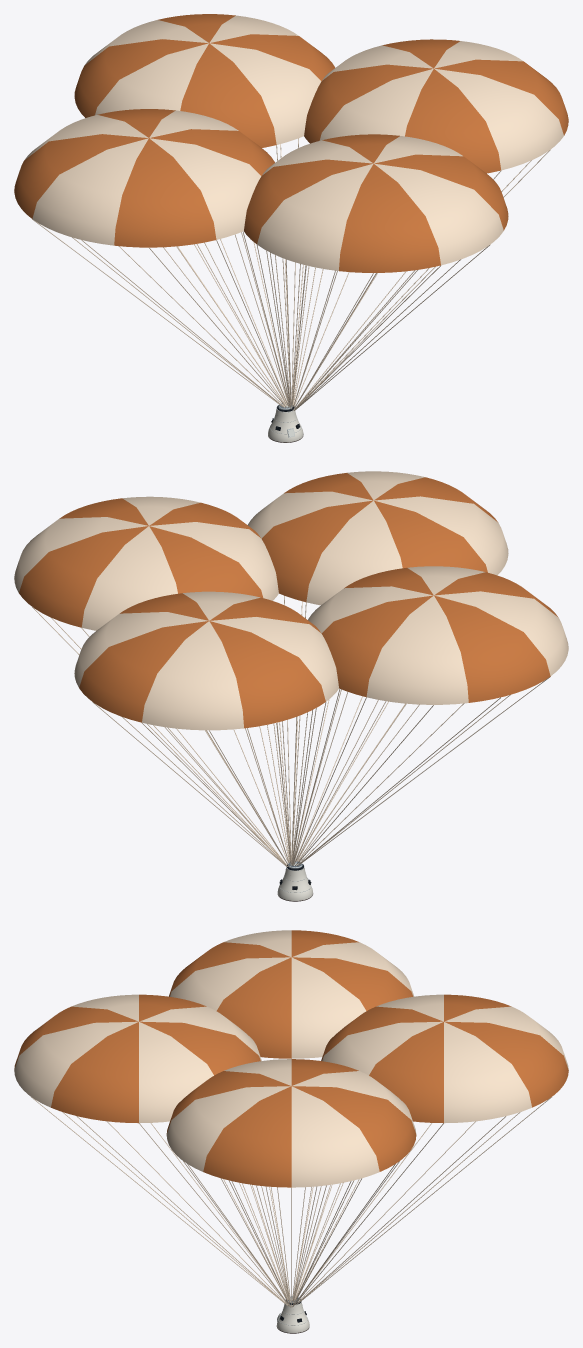
File: dragon_capsule_recovery.glb
3 views of the same model, one above another, from view 1: azimuth 30°, elevation 25°; view 2: azimuth 150°, elevation 25°; view 3: azimuth 270°, elevation 25° (orthographic). The views are drawn at different scales.
Parts seen in each view (by area): view 1: dragon_capsule.dragon_recovery.main_01.mesh_Parachute_canopy, dragon_capsule.dragon_recovery.main_01.mesh_Spray-on_insulat, dragon_capsule.dragon_recovery.main_04.mesh_Spray-on_insulat, dragon_capsule.dragon_recovery.main_04.mesh_Parachute_canopy, dragon_capsule.dragon_recovery.main_02.mesh_Parachute_canopy, dragon_capsule.dragon_recovery.main_02.mesh_Spray-on_insulat, dragon_capsule.dragon_recovery.main_03.mesh_Spray-on_insulat, dragon_capsule.dragon_recovery.main_03.mesh_Parachute_canopy, dragon_capsule.dragon_recovery.mesh_Parachute_canopy_fabric, dragon_capsule.mesh_Warm_white_enamel; view 2: dragon_capsule.dragon_recovery.main_03.mesh_Spray-on_insulat, dragon_capsule.dragon_recovery.main_03.mesh_Parachute_canopy, dragon_capsule.dragon_recovery.main_04.mesh_Parachute_canopy, dragon_capsule.dragon_recovery.main_04.mesh_Spray-on_insulat, dragon_capsule.dragon_recovery.main_02.mesh_Spray-on_insulat, dragon_capsule.dragon_recovery.main_02.mesh_Parachute_canopy, dragon_capsule.dragon_recovery.main_01.mesh_Parachute_canopy, dragon_capsule.dragon_recovery.main_01.mesh_Spray-on_insulat, dragon_capsule.dragon_recovery.mesh_Parachute_canopy_fabric, dragon_capsule.mesh_Warm_white_enamel; view 3: dragon_capsule.dragon_recovery.main_02.mesh_Parachute_canopy, dragon_capsule.dragon_recovery.main_02.mesh_Spray-on_insulat, dragon_capsule.dragon_recovery.main_03.mesh_Parachute_canopy, dragon_capsule.dragon_recovery.main_01.mesh_Spray-on_insulat, dragon_capsule.dragon_recovery.main_01.mesh_Parachute_canopy, dragon_capsule.dragon_recovery.main_03.mesh_Spray-on_insulat, dragon_capsule.dragon_recovery.main_04.mesh_Parachute_canopy, dragon_capsule.dragon_recovery.main_04.mesh_Spray-on_insulat, dragon_capsule.dragon_recovery.mesh_Parachute_canopy_fabric, dragon_capsule.mesh_Warm_white_enamel.
Boxes of the visible parts, left/top/right/bottom form: dragon_capsule.dragon_recovery.main_01.mesh_Parachute_canopy: left=257, top=136, right=503, bottom=270; dragon_capsule.dragon_recovery.main_01.mesh_Spray-on_insulat: left=244, top=134, right=508, bottom=272; dragon_capsule.dragon_recovery.main_04.mesh_Spray-on_insulat: left=14, top=109, right=274, bottom=247; dragon_capsule.dragon_recovery.main_04.mesh_Parachute_canopy: left=25, top=110, right=261, bottom=245; dragon_capsule.dragon_recovery.main_02.mesh_Parachute_canopy: left=319, top=41, right=563, bottom=170; dragon_capsule.dragon_recovery.main_02.mesh_Spray-on_insulat: left=304, top=39, right=568, bottom=173; dragon_capsule.dragon_recovery.main_03.mesh_Spray-on_insulat: left=74, top=14, right=335, bottom=147; dragon_capsule.dragon_recovery.main_03.mesh_Parachute_canopy: left=84, top=15, right=321, bottom=144; dragon_capsule.dragon_recovery.mesh_Parachute_canopy_fabric: left=32, top=138, right=550, bottom=410; dragon_capsule.mesh_Warm_white_enamel: left=268, top=408, right=303, bottom=442; dragon_capsule.dragon_recovery.main_03.mesh_Spray-on_insulat: left=79, top=593, right=325, bottom=728; dragon_capsule.dragon_recovery.main_03.mesh_Parachute_canopy: left=74, top=591, right=338, bottom=730; dragon_capsule.dragon_recovery.main_04.mesh_Parachute_canopy: left=308, top=566, right=568, bottom=704; dragon_capsule.dragon_recovery.main_04.mesh_Spray-on_insulat: left=321, top=568, right=558, bottom=702; dragon_capsule.dragon_recovery.main_02.mesh_Spray-on_insulat: left=19, top=498, right=263, bottom=627; dragon_capsule.dragon_recovery.main_02.mesh_Parachute_canopy: left=14, top=496, right=278, bottom=630; dragon_capsule.dragon_recovery.main_01.mesh_Parachute_canopy: left=248, top=471, right=508, bottom=605; dragon_capsule.dragon_recovery.main_01.mesh_Spray-on_insulat: left=261, top=473, right=498, bottom=602; dragon_capsule.dragon_recovery.mesh_Parachute_canopy_fabric: left=32, top=553, right=550, bottom=866; dragon_capsule.mesh_Warm_white_enamel: left=277, top=867, right=312, bottom=901; dragon_capsule.dragon_recovery.main_02.mesh_Parachute_canopy: left=166, top=1059, right=416, bottom=1187; dragon_capsule.dragon_recovery.main_02.mesh_Spray-on_insulat: left=166, top=1059, right=416, bottom=1187; dragon_capsule.dragon_recovery.main_03.mesh_Parachute_canopy: left=322, top=994, right=568, bottom=1123; dragon_capsule.dragon_recovery.main_01.mesh_Spray-on_insulat: left=14, top=994, right=260, bottom=1123; dragon_capsule.dragon_recovery.main_01.mesh_Parachute_canopy: left=14, top=994, right=261, bottom=1123; dragon_capsule.dragon_recovery.main_03.mesh_Spray-on_insulat: left=321, top=994, right=568, bottom=1122; dragon_capsule.dragon_recovery.main_04.mesh_Parachute_canopy: left=170, top=930, right=414, bottom=1058; dragon_capsule.dragon_recovery.main_04.mesh_Spray-on_insulat: left=169, top=930, right=413, bottom=1058; dragon_capsule.dragon_recovery.mesh_Parachute_canopy_fabric: left=31, top=1058, right=568, bottom=1307; dragon_capsule.mesh_Warm_white_enamel: left=276, top=1302, right=309, bottom=1333.
Bounding box in the file's own units: 66.66 × 40.86 × 66.66.
